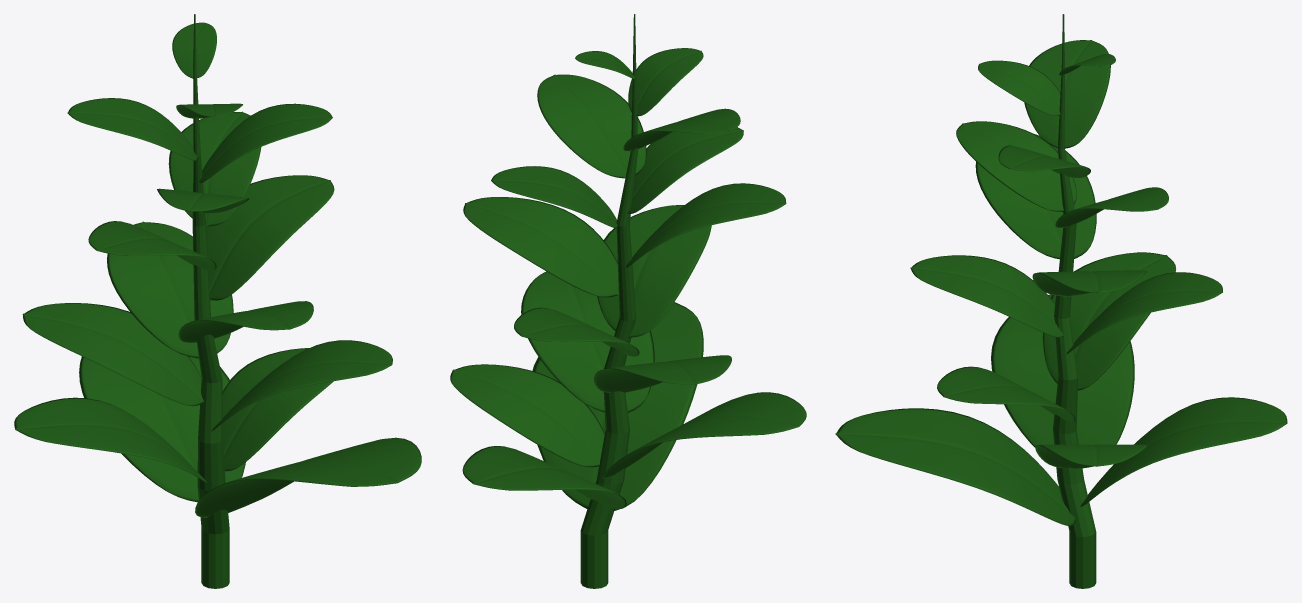
The model's file is Plant 2.fbx.
The picture shows the model from 3 angles, left to right: view 1: azimuth 30°, elevation 25°; view 2: azimuth 150°, elevation 25°; view 3: azimuth 270°, elevation 25°; orthographic projection. The views are drawn at different scales.
Parts seen in each view (by area): view 1: Plant 2; view 2: Plant 2; view 3: Plant 2.
Boxes of the visible parts, bbox=[...] form: Plant 2: bbox=[14, 14, 421, 588]; Plant 2: bbox=[450, 14, 806, 588]; Plant 2: bbox=[835, 14, 1287, 588].
Bounding box in the file's own units: 41.87 × 67.92 × 50.22.
